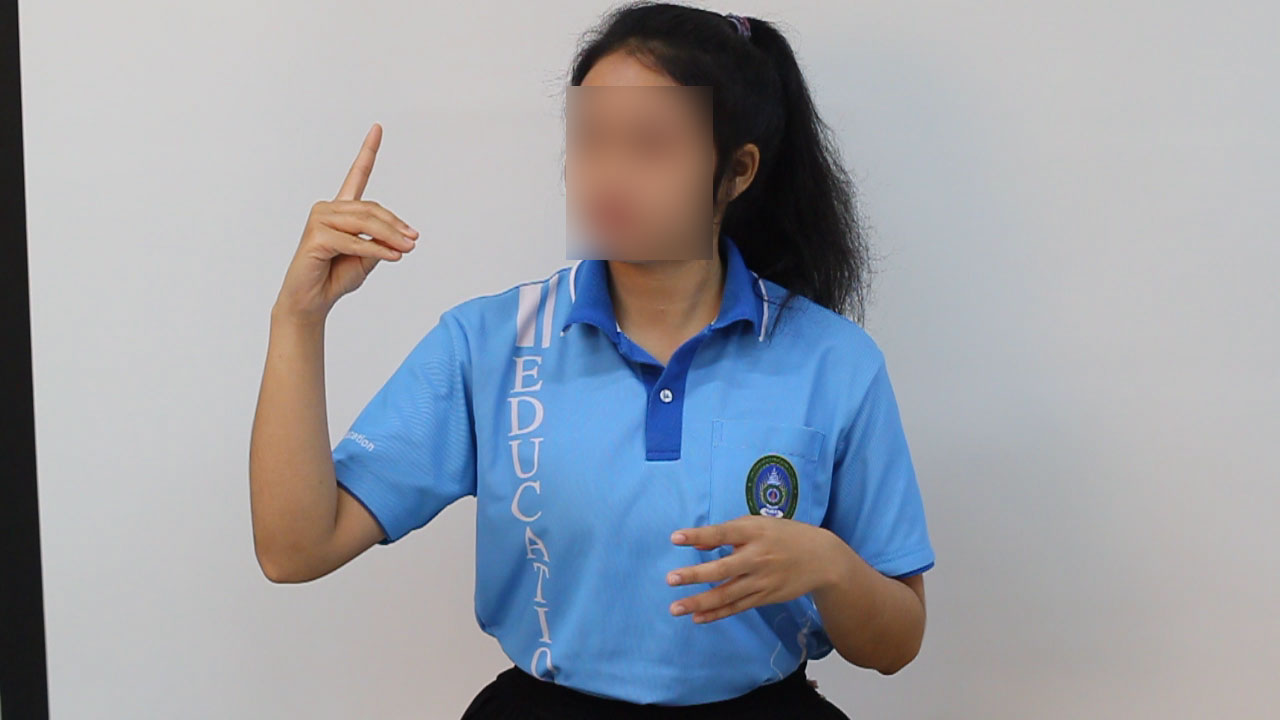dor: (266, 115, 426, 321)
